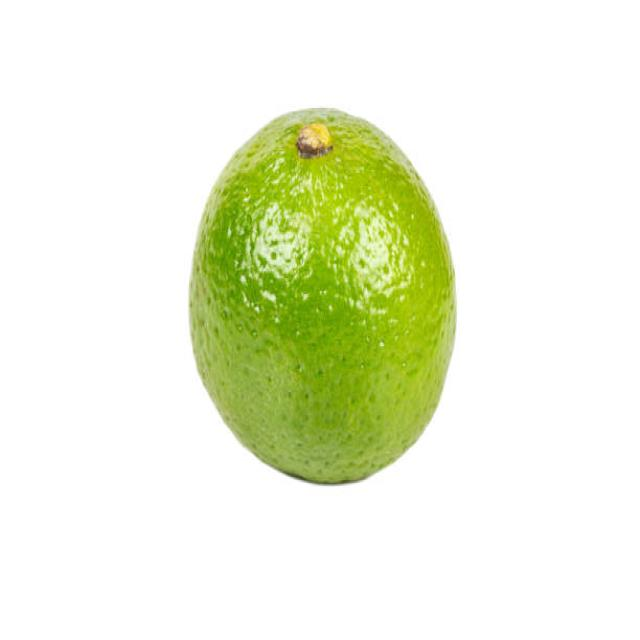Unripe: (188, 105, 458, 487)
